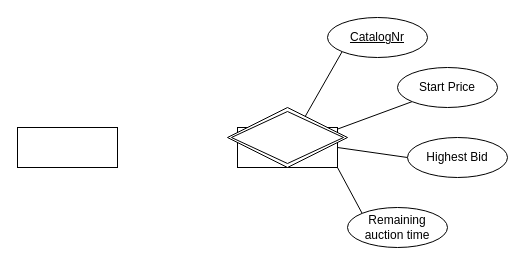
This 525x265 diagram has some shape labels left out. The shapes that lost their labels are listed below. From the top down, each one's box as (x1, y1, x2, y2) in pixels, then its label:
(16, 126, 118, 168): Product
(226, 106, 348, 168): Relationship
